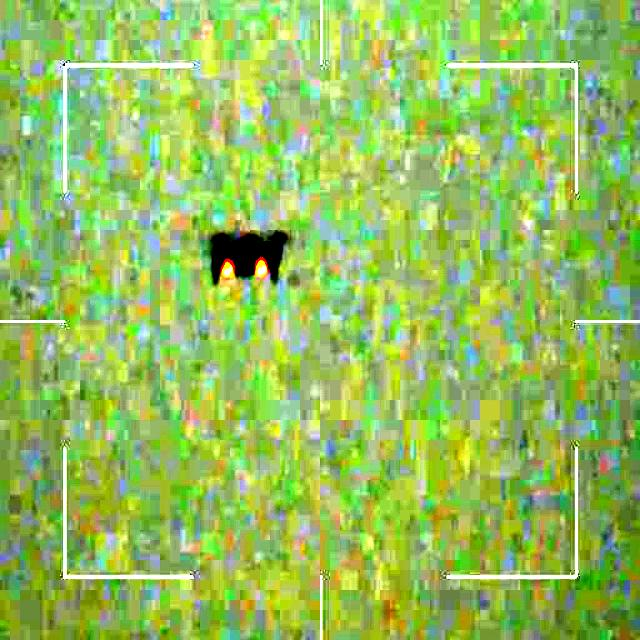bird: (206, 232, 290, 282)
